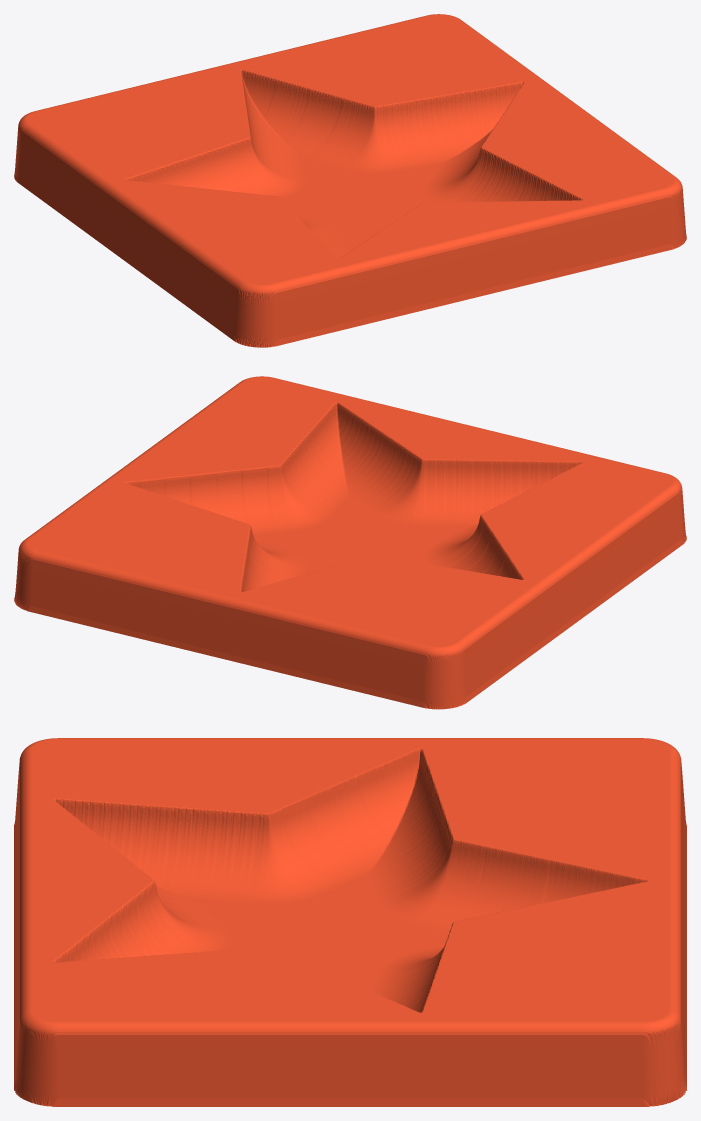
The model's file is mold.glb.
3 views of the same model, one above another, from view 1: azimuth 30°, elevation 25°; view 2: azimuth 150°, elevation 25°; view 3: azimuth 270°, elevation 25° (orthographic). The views are drawn at different scales.
Visible parts, largest first — view 1: geometry_0; view 2: geometry_0; view 3: geometry_0.
Boxes of the visible parts, box(x1,y1,x2,y2) form: geometry_0: box(14, 14, 686, 347); geometry_0: box(14, 376, 686, 709); geometry_0: box(14, 738, 686, 1106).
Size of the model in its own units: 0.1435 by 0.0175 by 0.1373.
